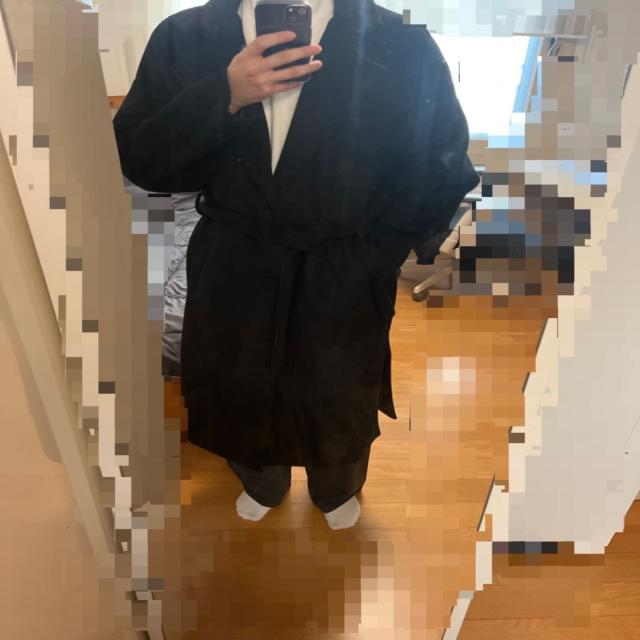coat: (110, 0, 478, 471)
